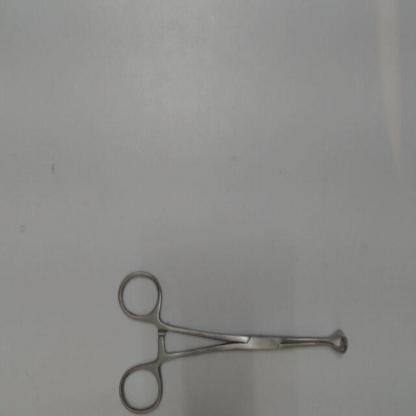Babcock Tissue Forceps: (111, 263, 353, 414)
